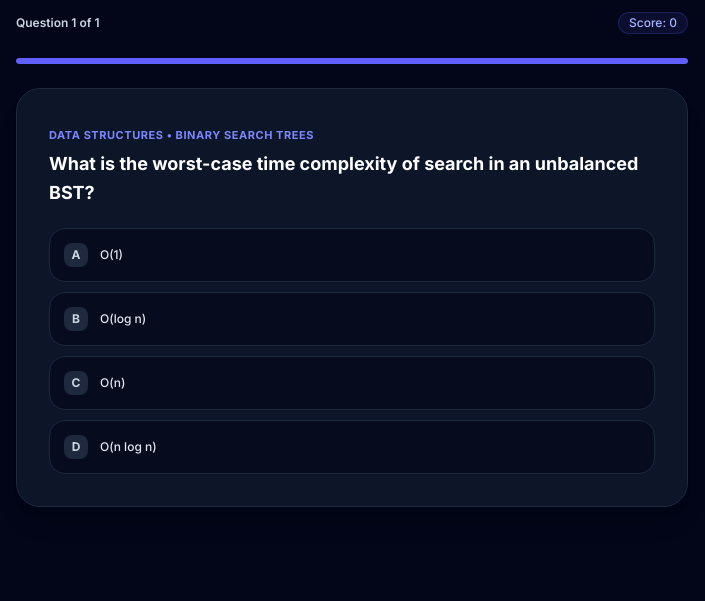
Client Smoke Tests (Member A Slice) › provides answer feedback and updates score on option selection
Check: the heading "worst-case time complexity of search in an unbalanced BST" is shown, box [49,153,638,203]
Click the text "O(n)": (113, 382) [100,374,125,390]
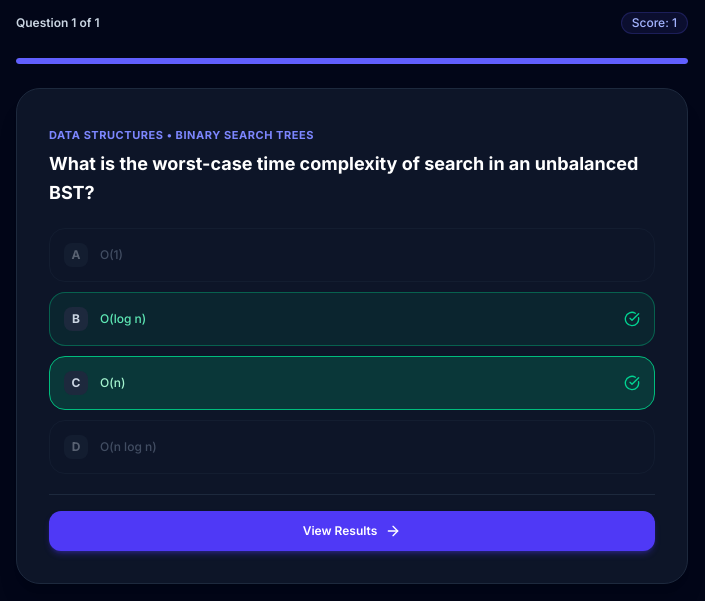
Check: the text "View Results" is shown, box [303,522,377,538]
Check: the text "Score: 1" is shown, box [621,12,688,34]
